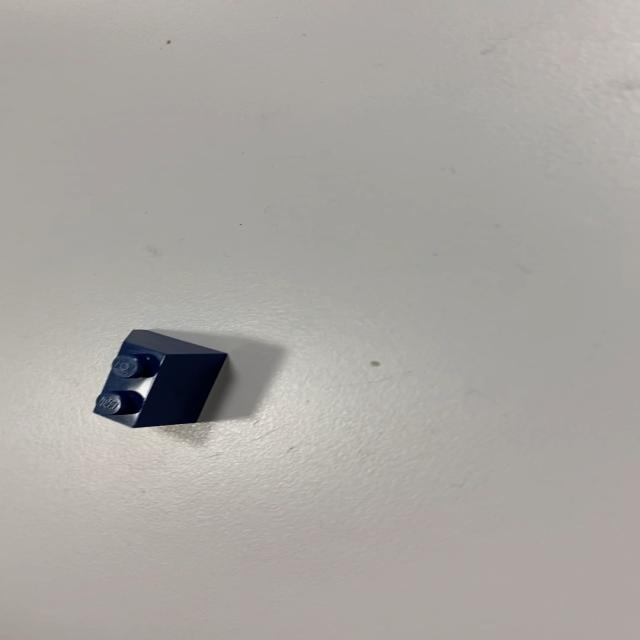P2x2x1: (91, 328, 229, 429)
